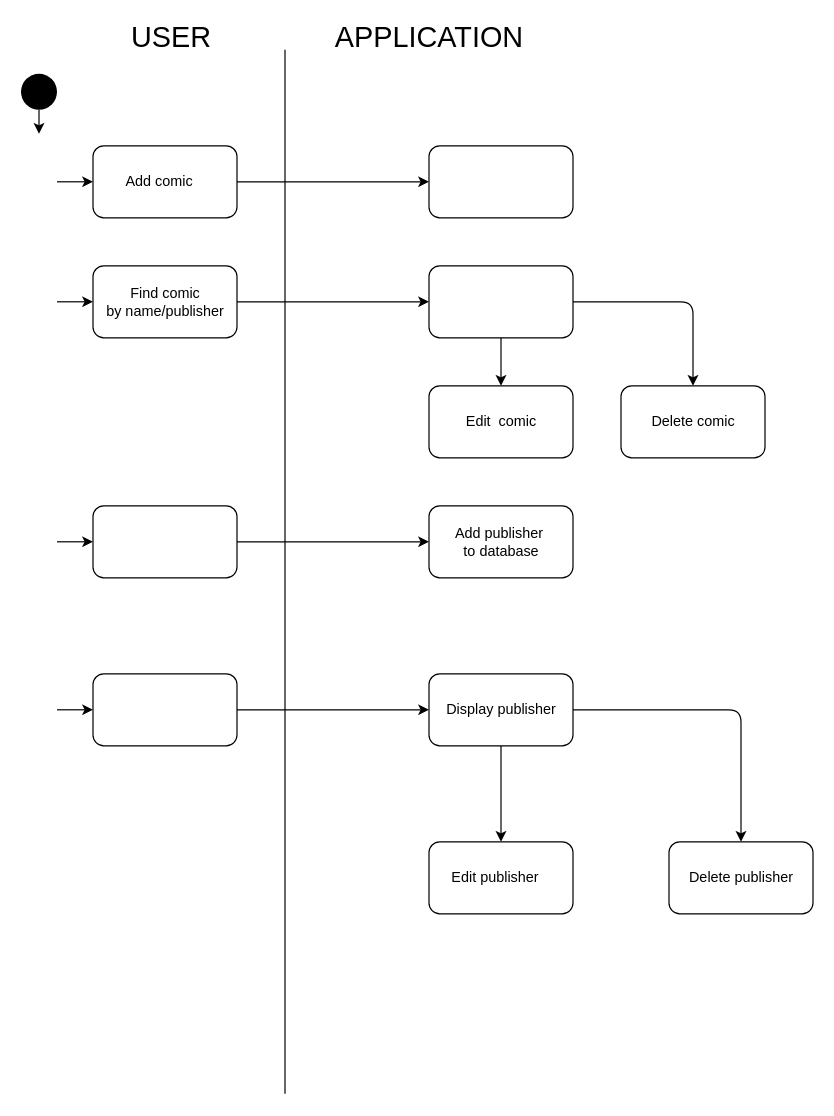
Image size: 834x1116. Some labels were removed from this diagram. Each missing label, with the box of its shape:
Add comic to database: (428, 145, 573, 218)
Add publisher: (92, 505, 237, 578)
Display comic or comics requested: (428, 265, 573, 338)
Find publisher: (92, 673, 237, 746)
